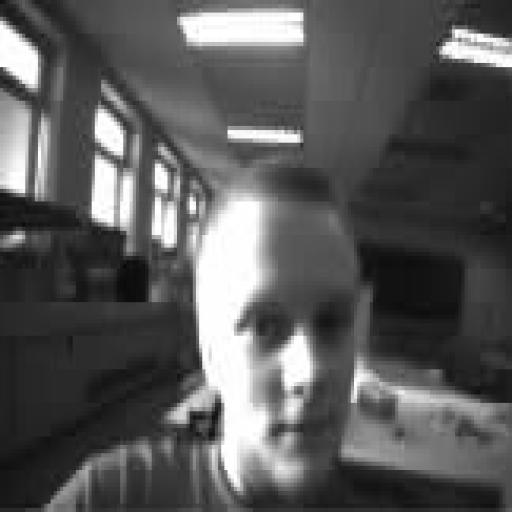human: (48, 160, 369, 511)
